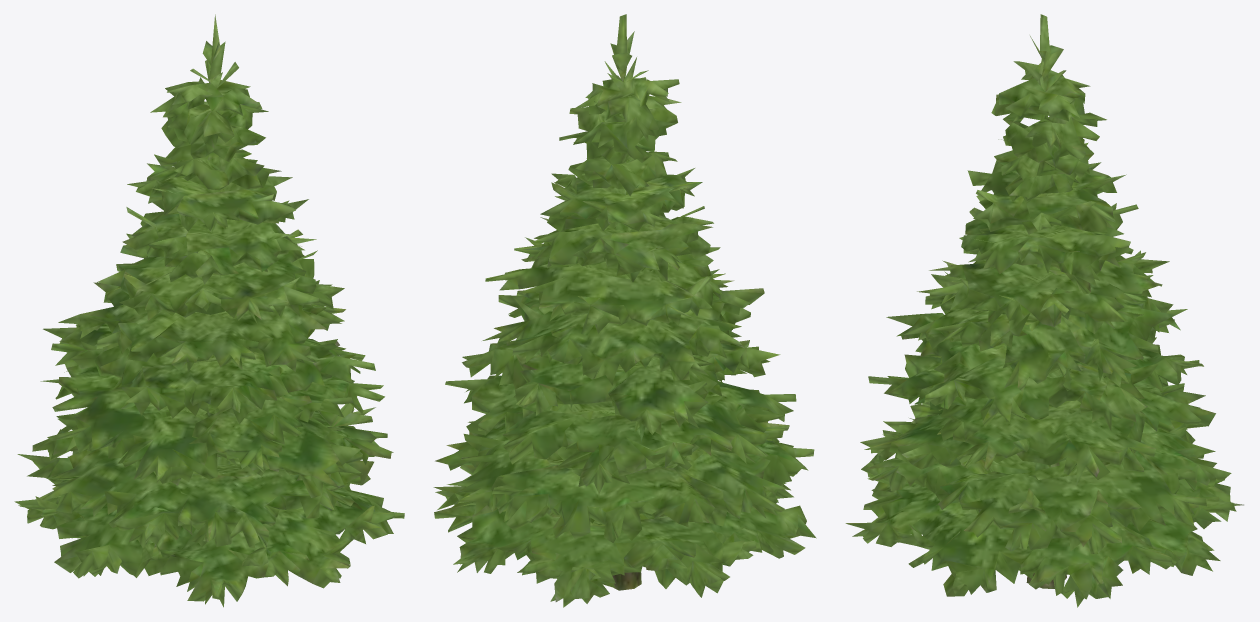
The model's file is evergreentree.glb.
3 renders of one model, left to right at view 1: azimuth 30°, elevation 25°; view 2: azimuth 150°, elevation 25°; view 3: azimuth 270°, elevation 25°, orthographic.
Parts seen in each view (by area): view 1: Mesh1.0; view 2: Mesh1.0; view 3: Mesh1.0.
Part boxes in pixels (left/top/right/bottom): Mesh1.0: left=14, top=14, right=404, bottom=607; Mesh1.0: left=433, top=14, right=816, bottom=607; Mesh1.0: left=845, top=14, right=1243, bottom=607.
Bounding box in the file's own units: 1.19 × 1.9 × 1.22.
1 material, 1 textured.
